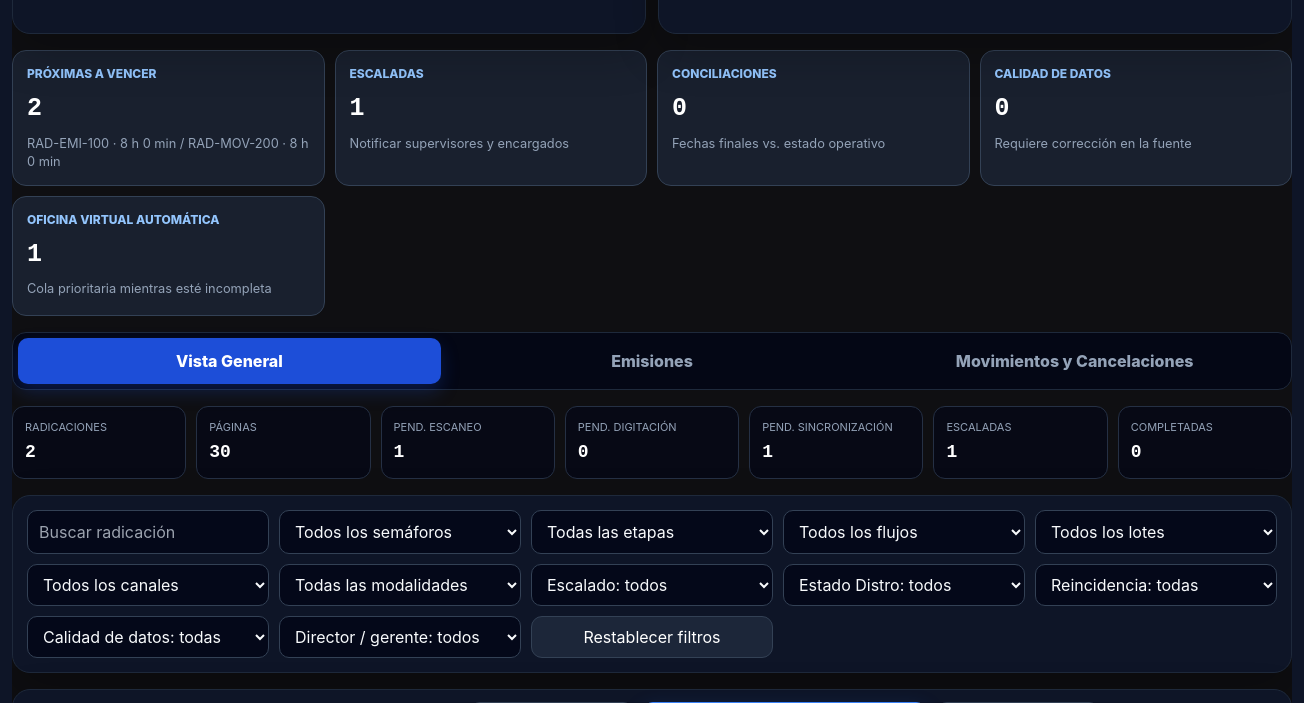
Test case: EndToEndView - Pestaña Vista General y Segmentación Reactiva › permite regresar a "Vista General" restaurando la totalidad de registros y métricas
(page scrolled)
Alternar a Emisiones primero
Click the tab "Emisiones": (652, 360) [441,338,863,384]
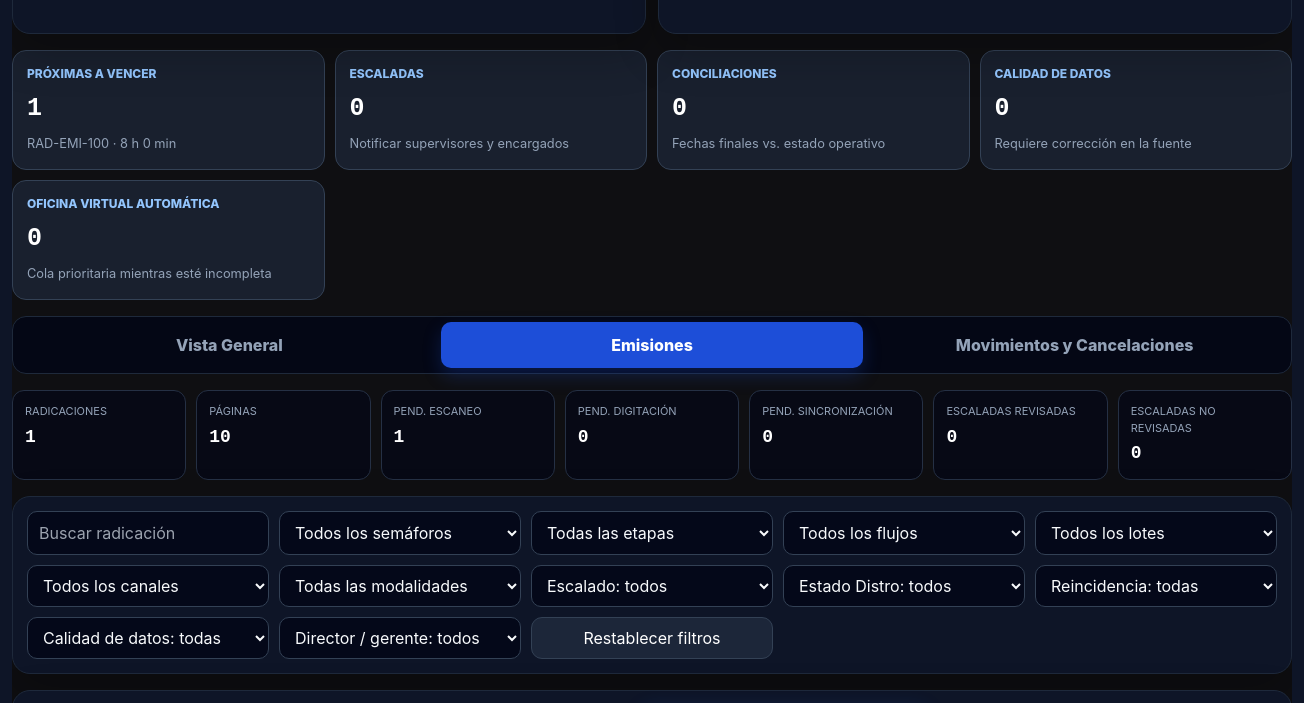
Expected: the text "RAD-MOV-200" is gone
Regresar a Vista General
Click the tab "Vista General": (229, 345) [18,322,441,368]
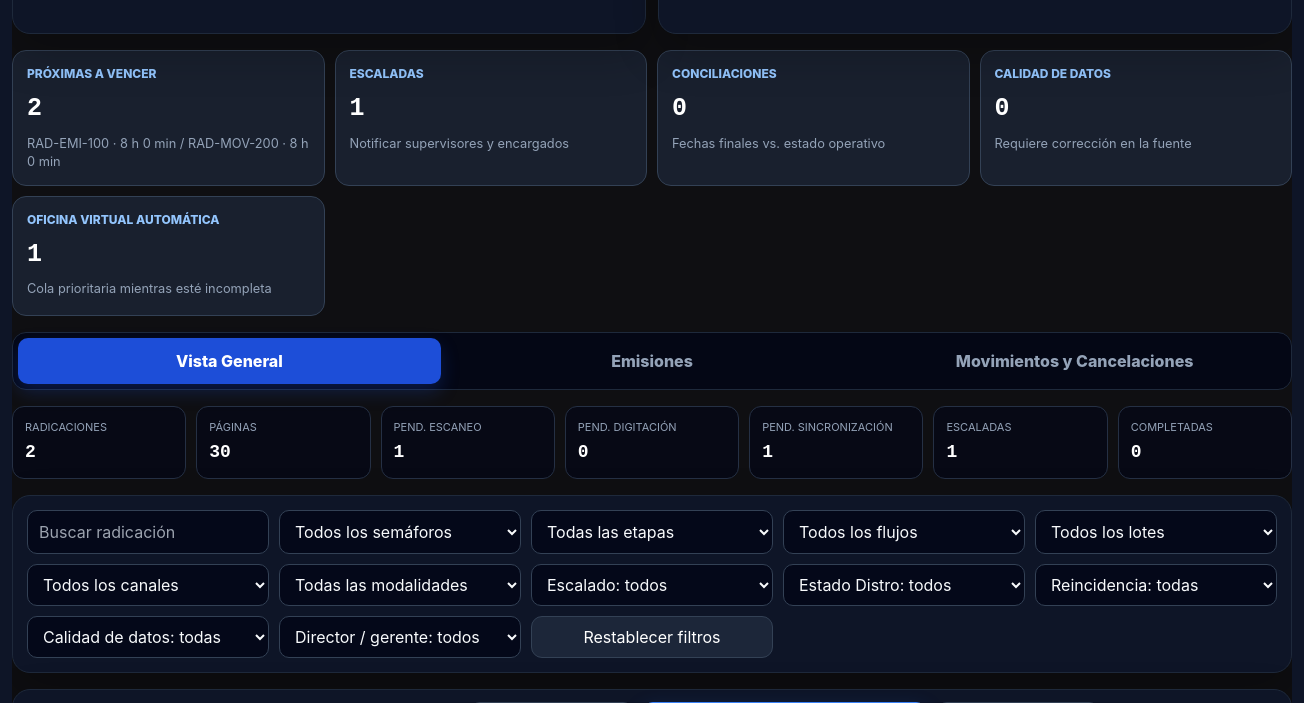
Expected: the text "RAD-EMI-100" is shown, [27,136,309,169]
Expected: the text "RAD-MOV-200" is shown, [27,136,309,169]
